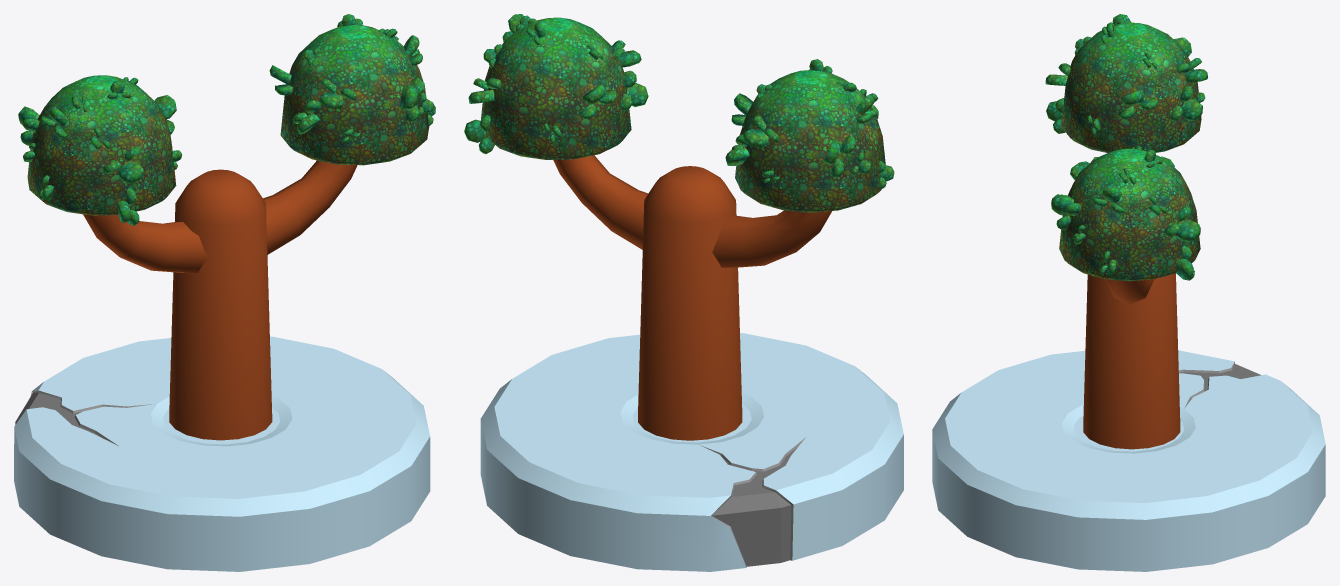
Rendered from Bushytree4.fbx.
The picture shows the model from 3 angles, left to right: view 1: azimuth 30°, elevation 25°; view 2: azimuth 150°, elevation 25°; view 3: azimuth 270°, elevation 25°; orthographic projection. The views are drawn at different scales.
Visible parts, largest first — view 1: BushyTree4_LOD0; view 2: BushyTree4_LOD0; view 3: BushyTree4_LOD0.
Part boxes in pixels (x1=…): BushyTree4_LOD0: x1=14, y1=14, x2=435, y2=571; BushyTree4_LOD0: x1=464, y1=14, x2=903, y2=571; BushyTree4_LOD0: x1=932, y1=14, x2=1325, y2=571.
Size of what is drawn, in the model's own units: 1406 by 1494 by 1291.
